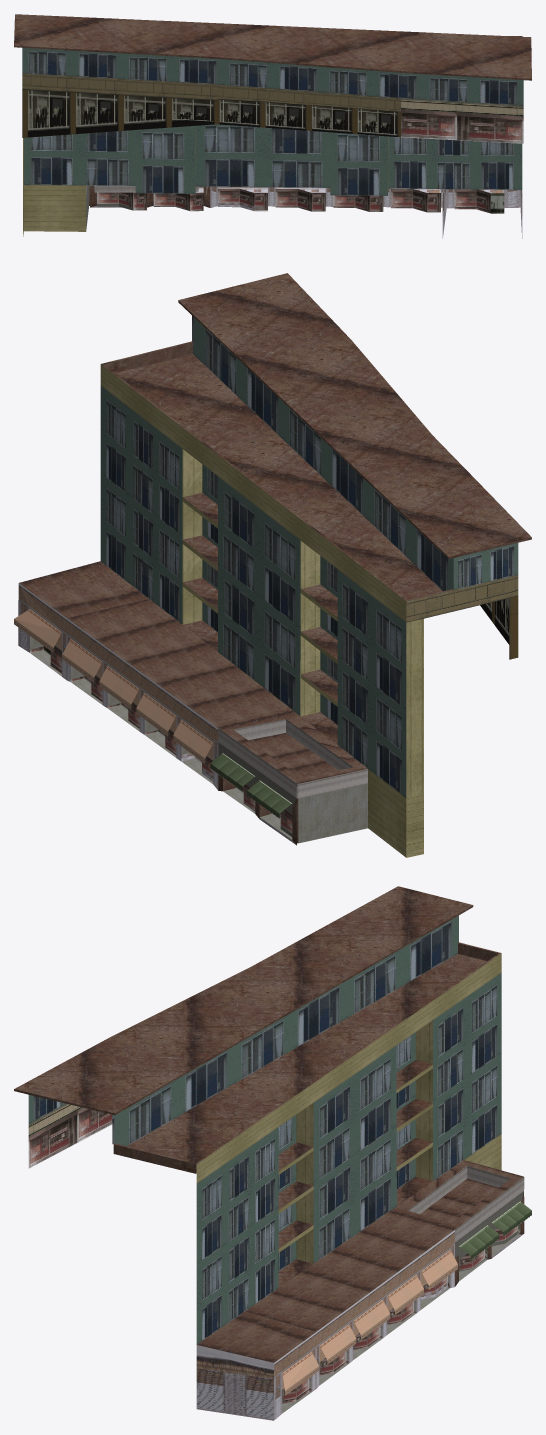
File: sunset02_law2.obj
The picture shows the model from 3 angles, top to bottom: view 1: azimuth 30°, elevation 25°; view 2: azimuth 150°, elevation 25°; view 3: azimuth 270°, elevation 25°; orthographic projection. The views are drawn at different scales.
Parts seen in each view (by area): view 1: sunset02_LAw2; view 2: sunset02_LAw2; view 3: sunset02_LAw2.
Part boxes in pixels (x1,y1,x2,y2): sunset02_LAw2: (14, 14, 531, 238); sunset02_LAw2: (14, 273, 531, 857); sunset02_LAw2: (14, 886, 531, 1420).
Bounding box in the file's own units: 57.21 × 28.84 × 48.2.
